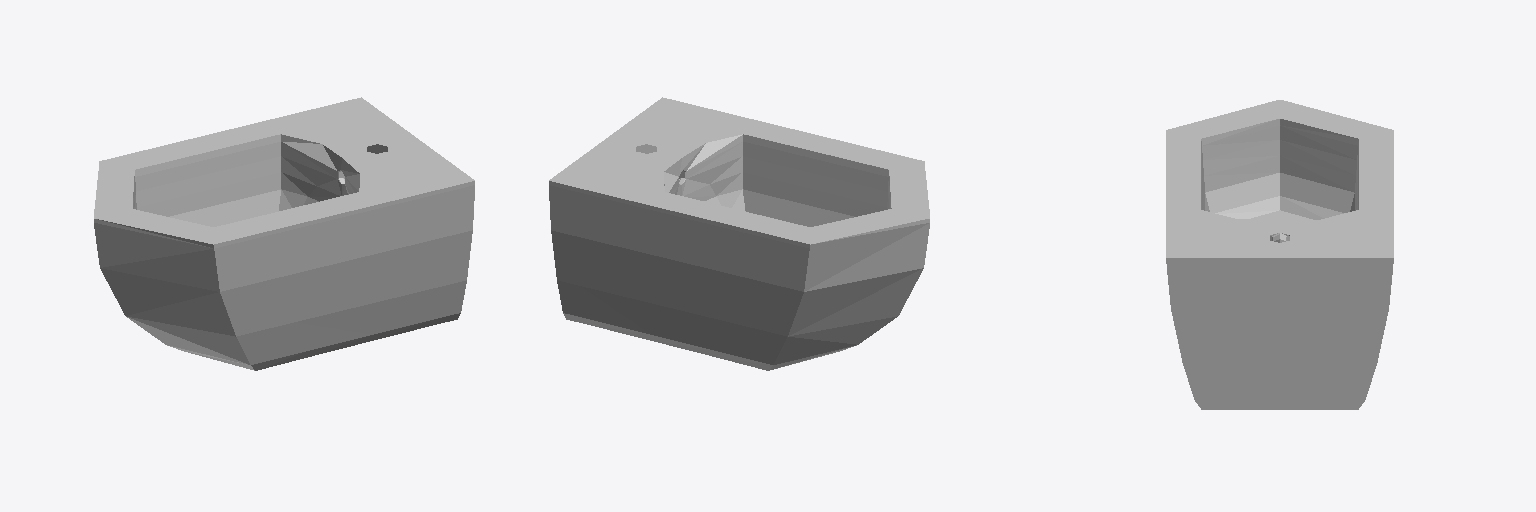
The model's file is 869994_BIDET.obj.
3 renders of one model, left to right at view 1: azimuth 30°, elevation 25°; view 2: azimuth 150°, elevation 25°; view 3: azimuth 270°, elevation 25°, orthographic.
Parts seen in each view (by area): view 1: Cylinder001; view 2: Cylinder001; view 3: Cylinder001.
Part boxes in pixels (left/top/right/bottom): Cylinder001: left=94, top=97, right=474, bottom=370; Cylinder001: left=549, top=97, right=929, bottom=370; Cylinder001: left=1166, top=100, right=1393, bottom=409.
Size of the model in its own units: 5.3 by 2.41 by 3.22.